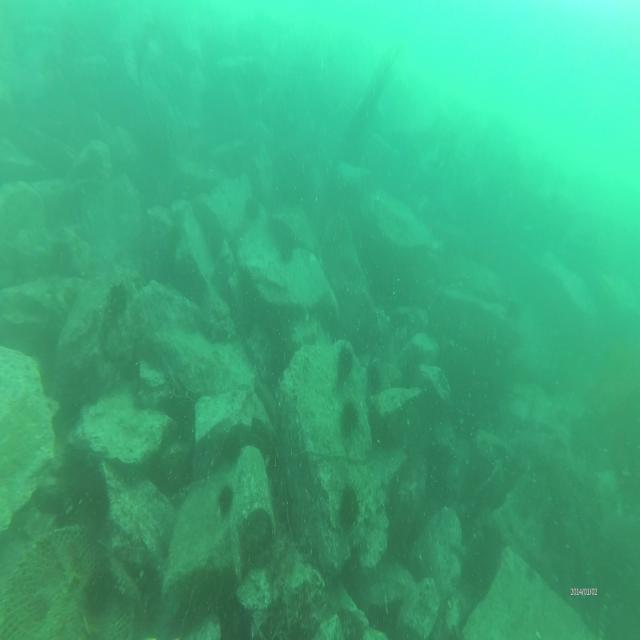echinus: (340, 479, 360, 530), (336, 342, 356, 384), (339, 398, 359, 437), (215, 483, 235, 517), (365, 359, 381, 394), (108, 283, 126, 314), (246, 195, 262, 222), (280, 237, 294, 260)
